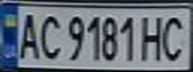1: (81, 12, 103, 61), (118, 12, 139, 62)
8: (100, 12, 121, 62)
9: (63, 12, 87, 62)
A: (12, 10, 42, 61)
C: (157, 11, 193, 62), (33, 11, 63, 61)
H: (136, 12, 169, 62)
